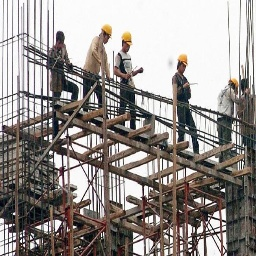helmet: (120, 30, 136, 48), (100, 23, 113, 39), (177, 51, 190, 67)
person: (173, 48, 202, 150), (116, 32, 143, 132), (86, 20, 113, 105), (52, 29, 72, 115), (216, 75, 236, 150)
